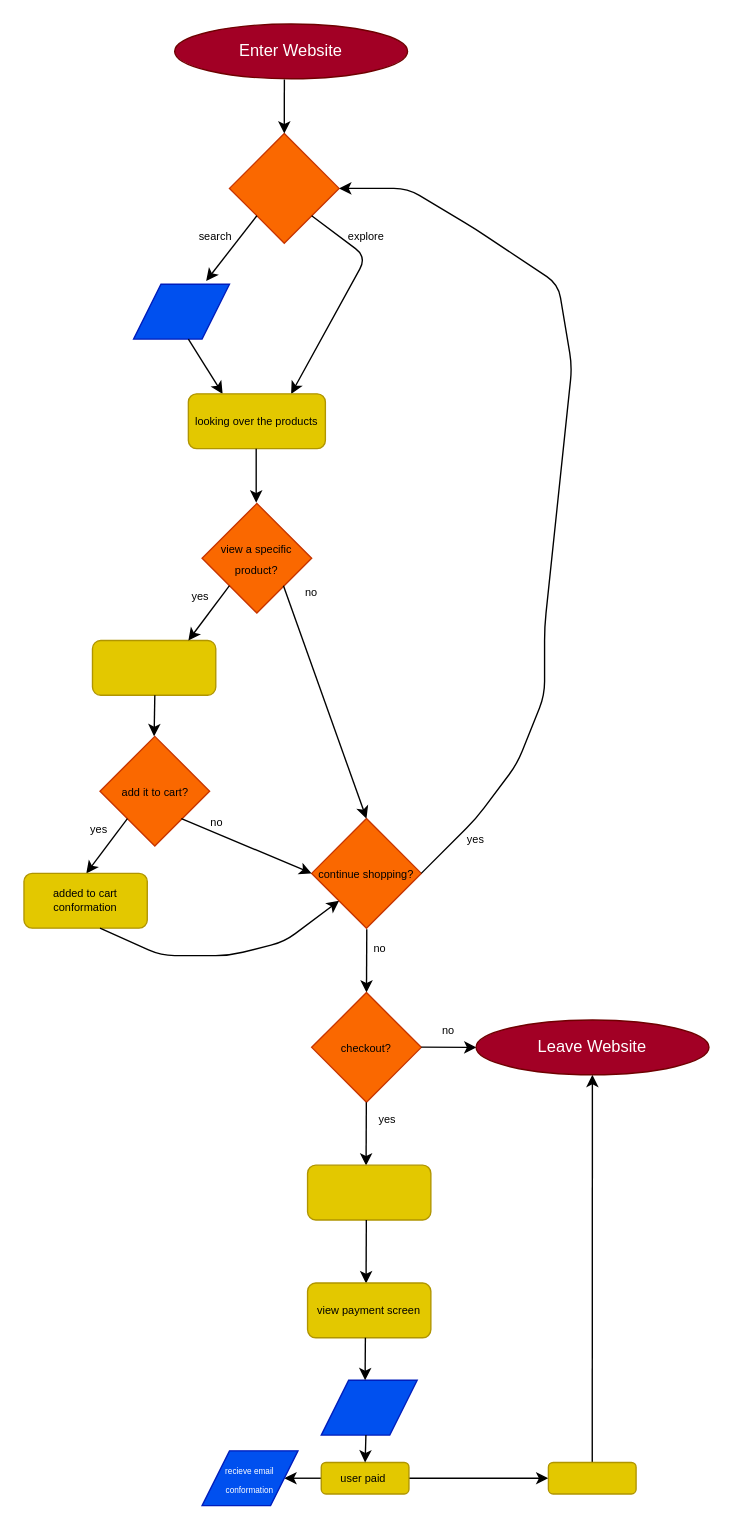
Image size: 733x1530. Some labels were removed from this diagram. Each missing label, with the box of its shape:
input payment info: (320, 1379, 417, 1435)
input search: (132, 283, 229, 339)
order conformation screen: (547, 1461, 636, 1494)
product webpage opens: (91, 639, 216, 695)
search or explore product?: (228, 132, 339, 243)
view cart screen: (306, 1164, 431, 1220)
